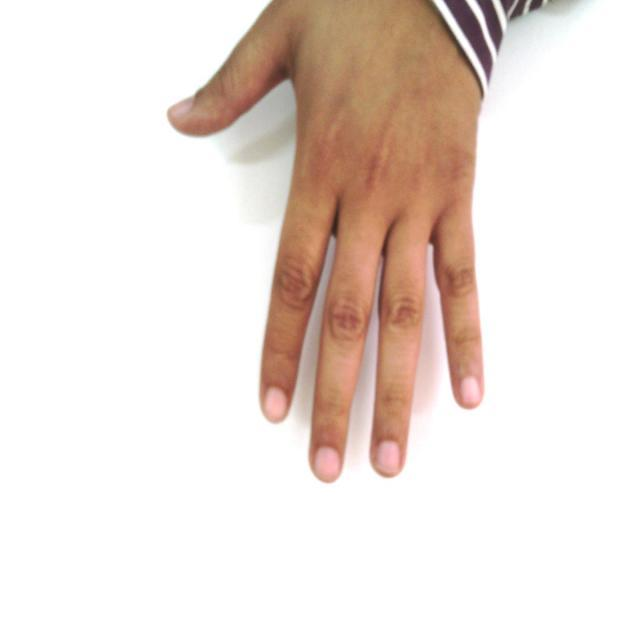Fingernail: (315, 447, 340, 481), (266, 389, 287, 422), (378, 442, 400, 473), (461, 377, 480, 406), (170, 99, 194, 119)
